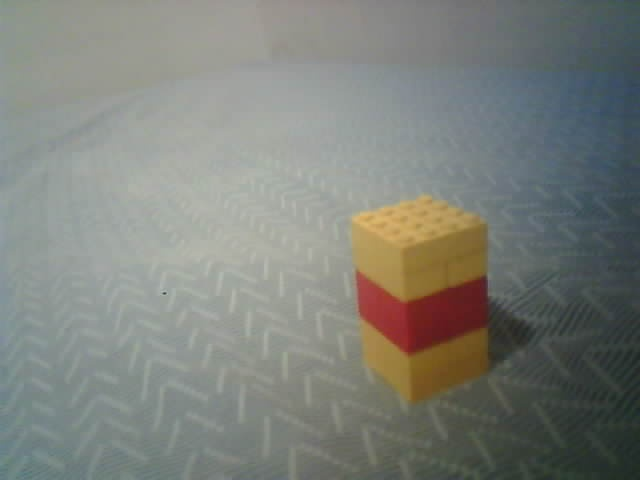lego: (347, 194, 490, 404)
